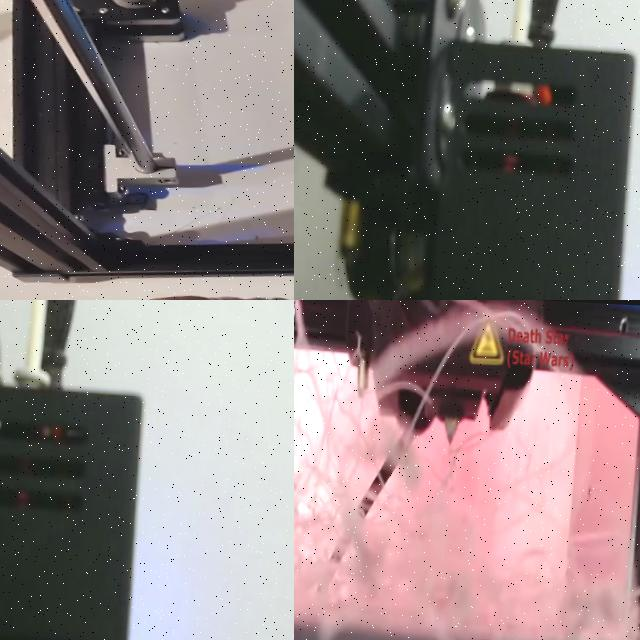spaghetti: (294, 300, 640, 640)
